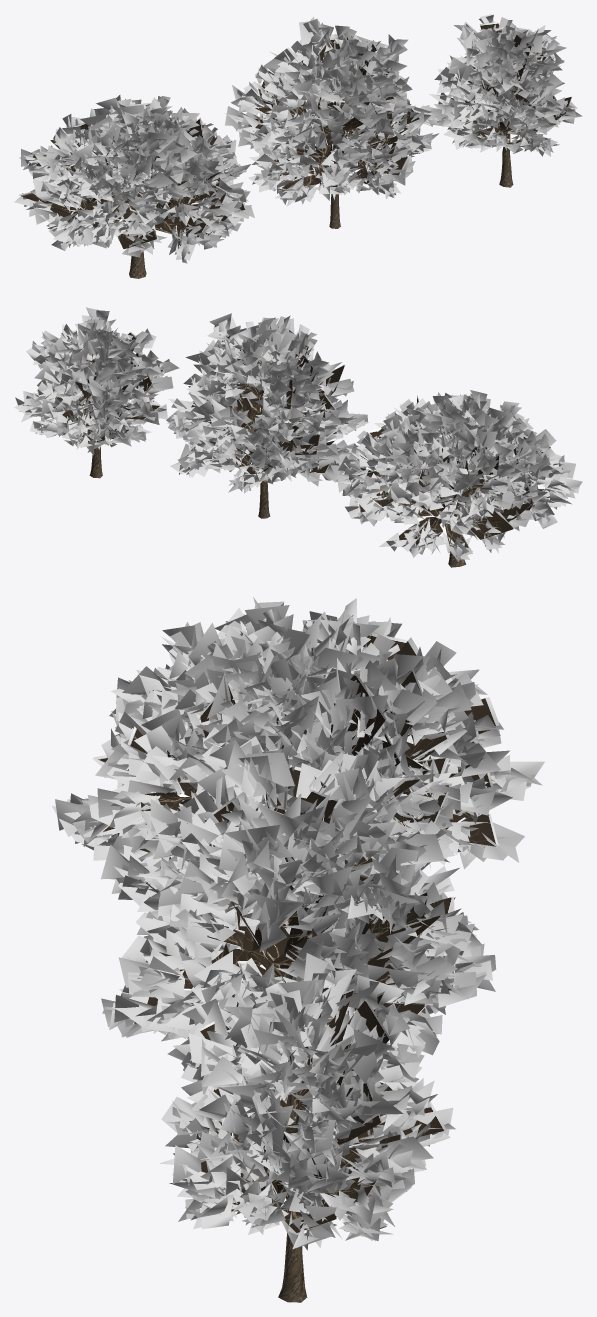
The model's file is trees.fbx.
The picture shows the model from 3 angles, top to bottom: view 1: azimuth 30°, elevation 25°; view 2: azimuth 150°, elevation 25°; view 3: azimuth 270°, elevation 25°; orthographic projection. The views are drawn at different scales.
Visible parts, largest first — view 1: Leaf_6, Bark_9; view 2: Leaf_6, Bark_9; view 3: Leaf_6, Bark_9.
Part boxes in pixels (x1,y1,x2,y2): Leaf_6: (14, 14, 582, 263); Bark_9: (117, 78, 521, 278); Leaf_6: (14, 307, 582, 561); Bark_9: (87, 361, 532, 567); Leaf_6: (52, 597, 544, 1250); Bark_9: (182, 758, 394, 1302).
Bounding box in the file's own units: 21643 × 7535 × 8751.
Materials: 3 (2 with a texture image).
